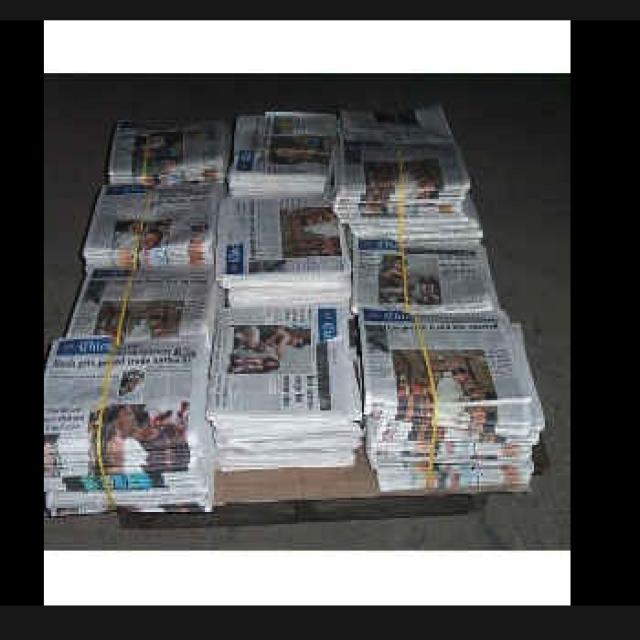Koran: (42, 100, 547, 520)
